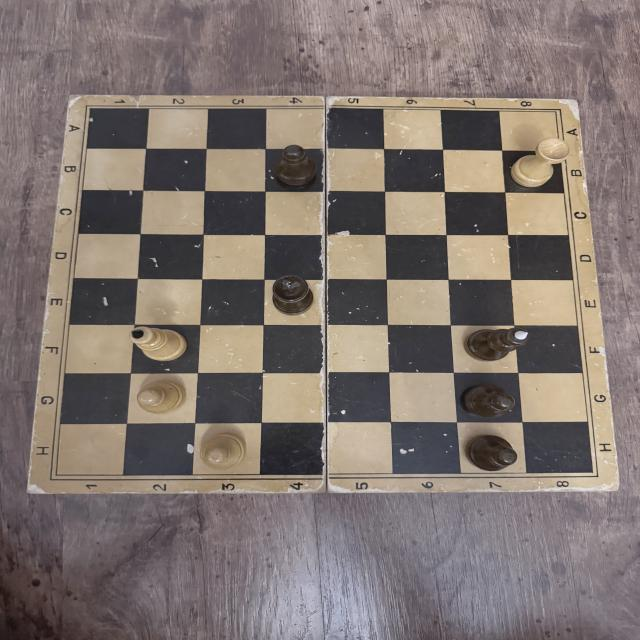black-king: (465, 327, 531, 363)
black-pawn: (463, 435, 520, 473), (273, 144, 319, 187), (463, 383, 516, 419)
black-rook: (270, 274, 314, 316)
white-king: (126, 325, 190, 362)
white-pawn: (196, 434, 247, 471), (136, 380, 187, 414)
white-rook: (508, 138, 570, 190)
